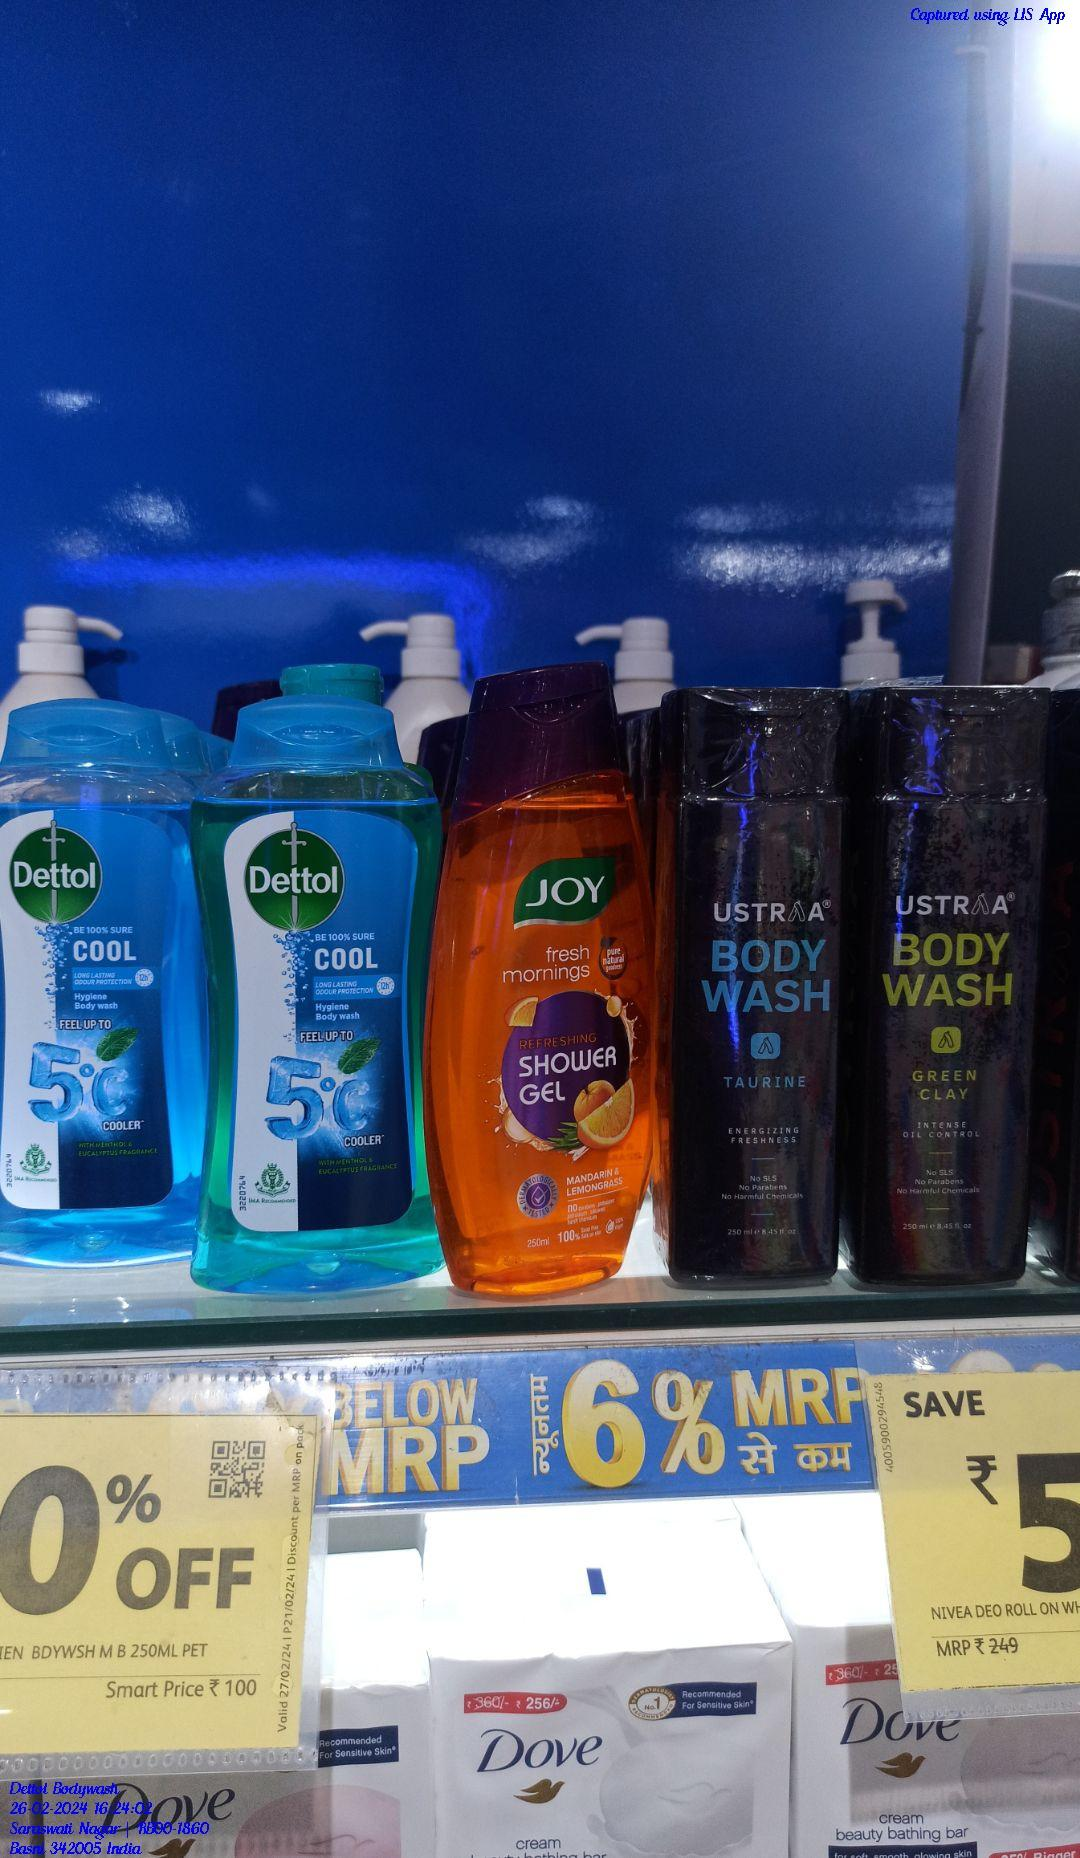Dettol_Bodywash_Cool: (198, 694, 427, 1297), (3, 696, 194, 1269)
